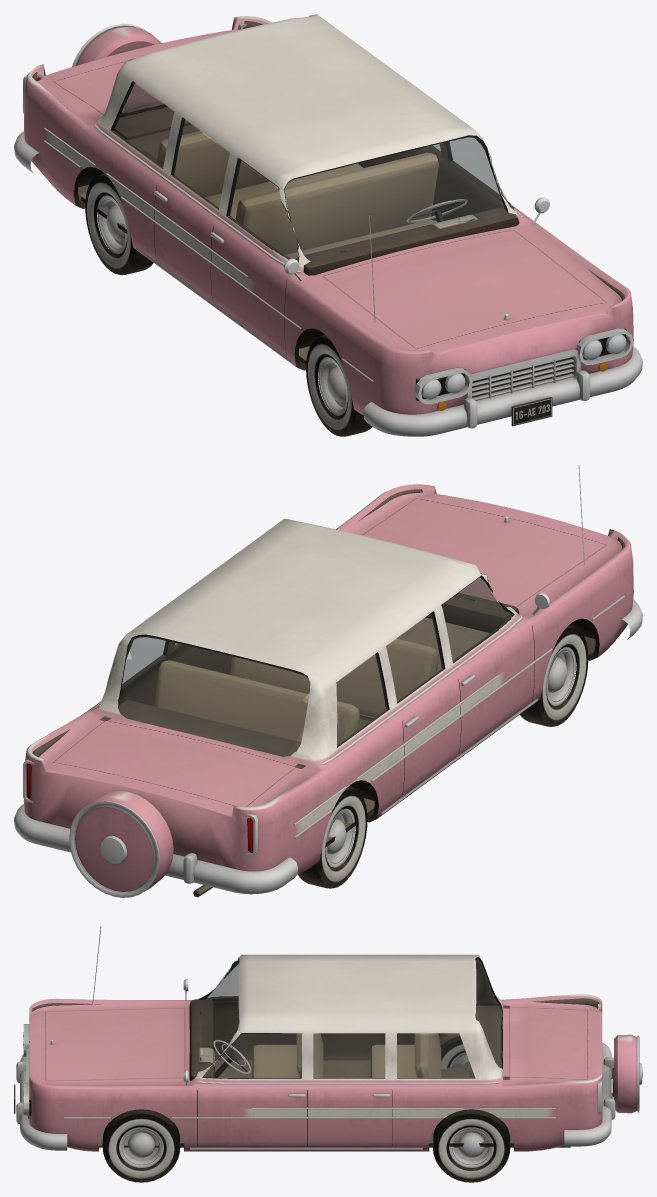
Rendered from nuketown_car_a.glb.
3 views of the same model, one above another, from view 1: azimuth 30°, elevation 25°; view 2: azimuth 150°, elevation 25°; view 3: azimuth 270°, elevation 25° (orthographic). The views are drawn at different scales.
Parts seen in each view (by area): view 1: car_a_A, car_a_B, car_a_glass; view 2: car_a_A, car_a_B, car_a_glass; view 3: car_a_A, car_a_B, car_a_glass.
Boxes of the visible parts, x1=… form: car_a_A: x1=14, y1=14, x2=642, y2=436; car_a_B: x1=32, y1=21, x2=624, y2=436; car_a_glass: x1=114, y1=83, x2=511, y2=261; car_a_A: x1=14, y1=465, x2=642, y2=897; car_a_B: x1=32, y1=489, x2=625, y2=897; car_a_glass: x1=122, y1=577, x2=512, y2=756; car_a_A: x1=14, y1=926, x2=642, y2=1151; car_a_B: x1=32, y1=959, x2=599, y2=1182; car_a_glass: x1=198, y1=958, x2=501, y2=1077.
Size of the model in its own units: 2 by 1.68 by 5.43.
3 materials, 2 textured.
